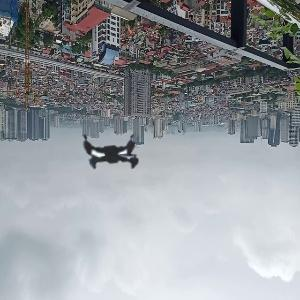drone: (30, 70, 199, 239)
